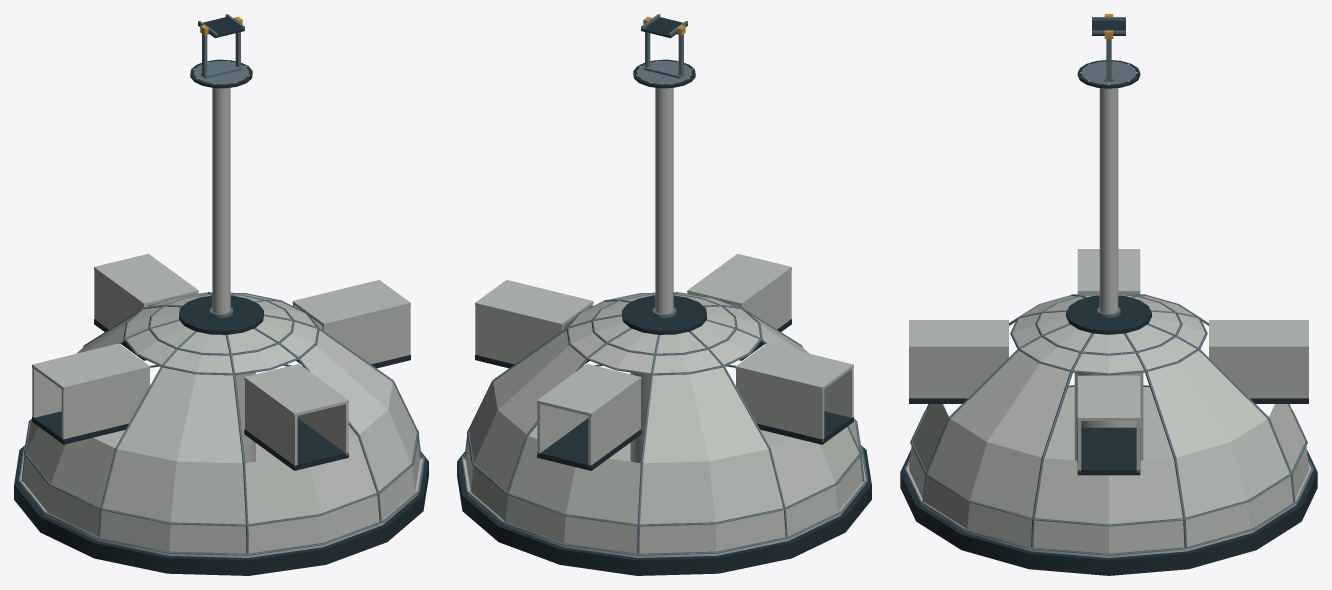
The model's file is fabrication_d0_lod2.glb.
3 renders of one model, left to right at view 1: azimuth 30°, elevation 25°; view 2: azimuth 150°, elevation 25°; view 3: azimuth 270°, elevation 25°, orthographic.
Parts seen in each view (by area): view 1: BODY; view 2: BODY; view 3: BODY.
Boxes of the visible parts, x1,y1,x2,y2 form: BODY: (14, 14, 428, 575); BODY: (457, 14, 871, 575); BODY: (900, 14, 1317, 575).
Size of the model in its own units: 29.2 by 35.85 by 29.2.
